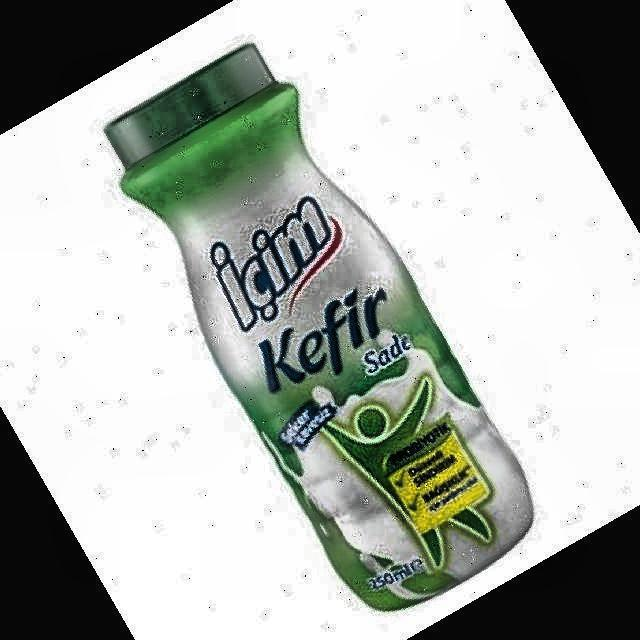plastic: (421, 529, 445, 569)
